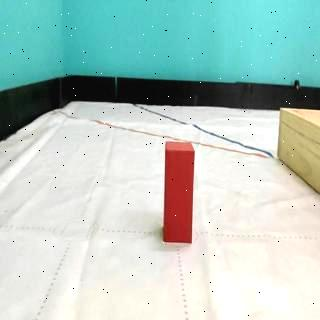redbox: (165, 140, 193, 244)
